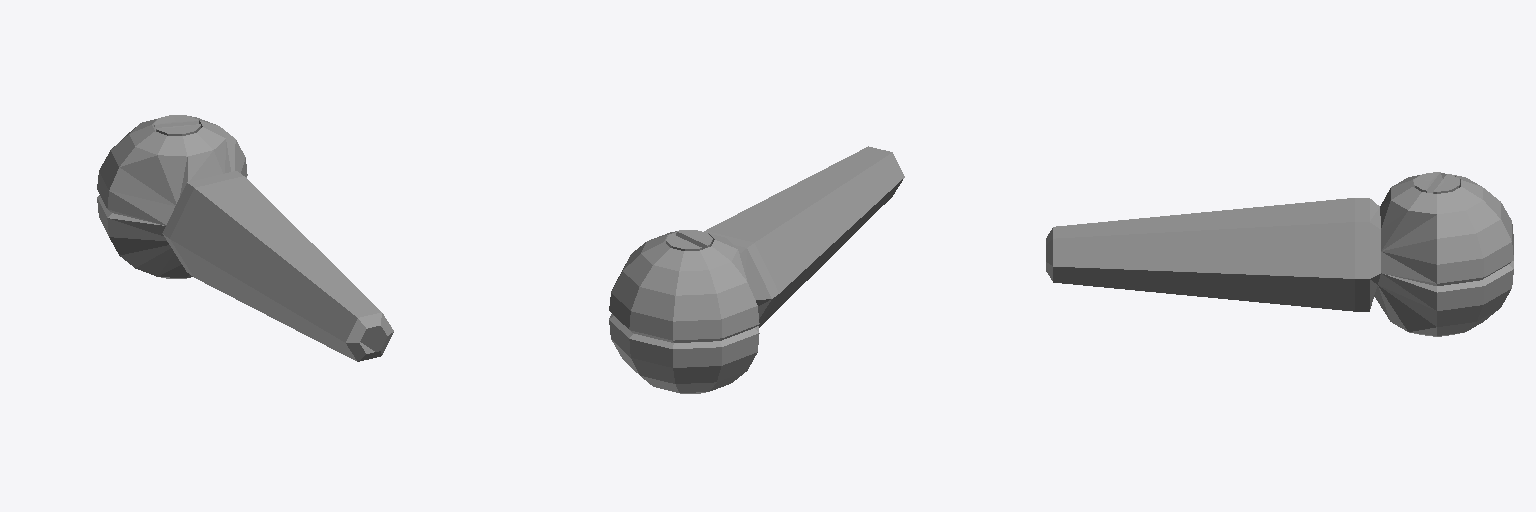
File: shoulder.obj
3 views of the same model, side by side, from view 1: azimuth 30°, elevation 25°; view 2: azimuth 150°, elevation 25°; view 3: azimuth 270°, elevation 25° (orthographic).
Parts seen in each view (by area): view 1: Sphere; view 2: Sphere; view 3: Sphere.
Boxes of the visible parts, box(x1,y1,x2,y2) form: Sphere: box(97, 115, 393, 361); Sphere: box(609, 146, 904, 393); Sphere: box(1046, 172, 1513, 336).
Size of the model in its own units: 5.2 by 5.24 by 15.03.